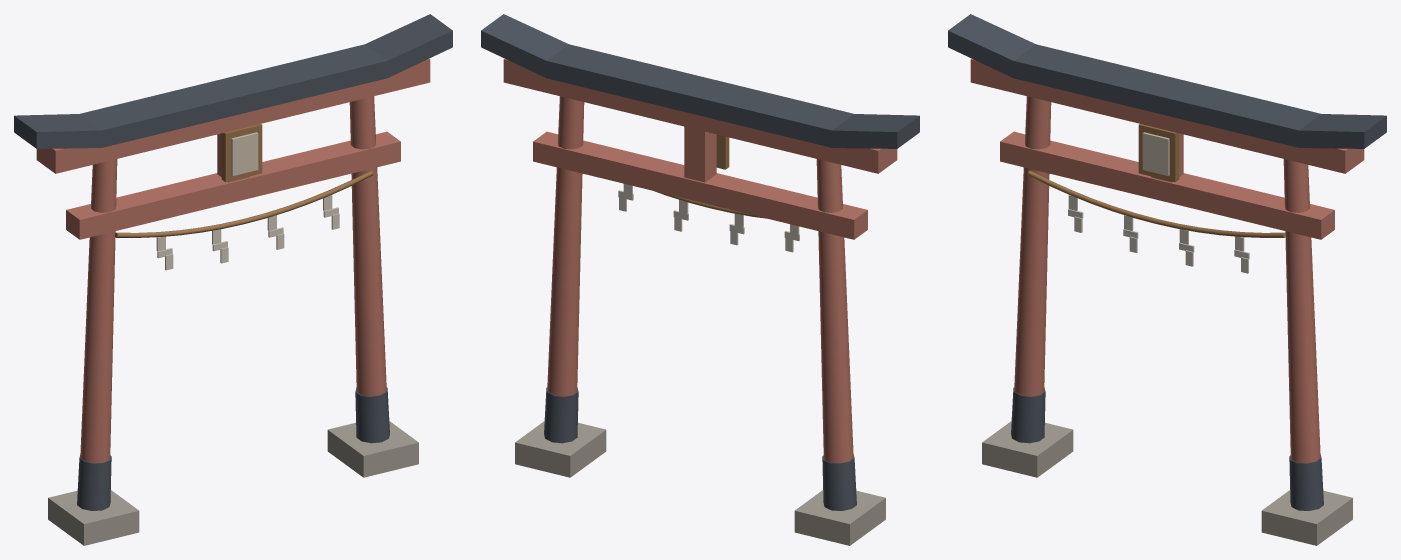
File: komachi-shrine-path-gate.glb
The picture shows the model from 3 angles, left to right: view 1: azimuth 30°, elevation 25°; view 2: azimuth 150°, elevation 25°; view 3: azimuth 330°, elevation 25°; orthographic projection.
Visible parts, largest first — view 1: Shrine_Path_Torii; view 2: Shrine_Path_Torii; view 3: Shrine_Path_Torii.
Part boxes in pixels (x1,y1,x2,y2): Shrine_Path_Torii: (14, 14, 452, 545); Shrine_Path_Torii: (481, 14, 919, 545); Shrine_Path_Torii: (948, 14, 1386, 545).
Bounding box in the file's own units: 0.7 × 0.673 × 0.105.
